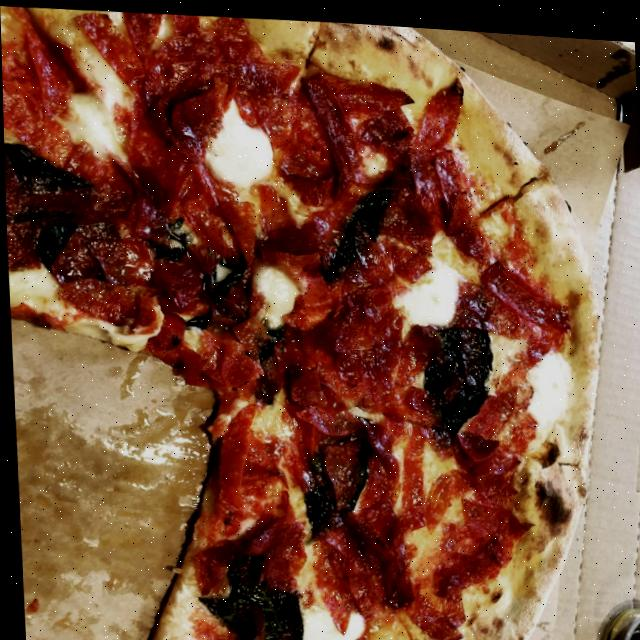pepperoni: (453, 252, 569, 358), (139, 26, 224, 122), (271, 246, 340, 329), (241, 502, 302, 590), (326, 300, 401, 367), (206, 601, 282, 640), (359, 502, 401, 561), (432, 142, 466, 205), (452, 424, 496, 457)
pizza: (0, 0, 610, 640)
